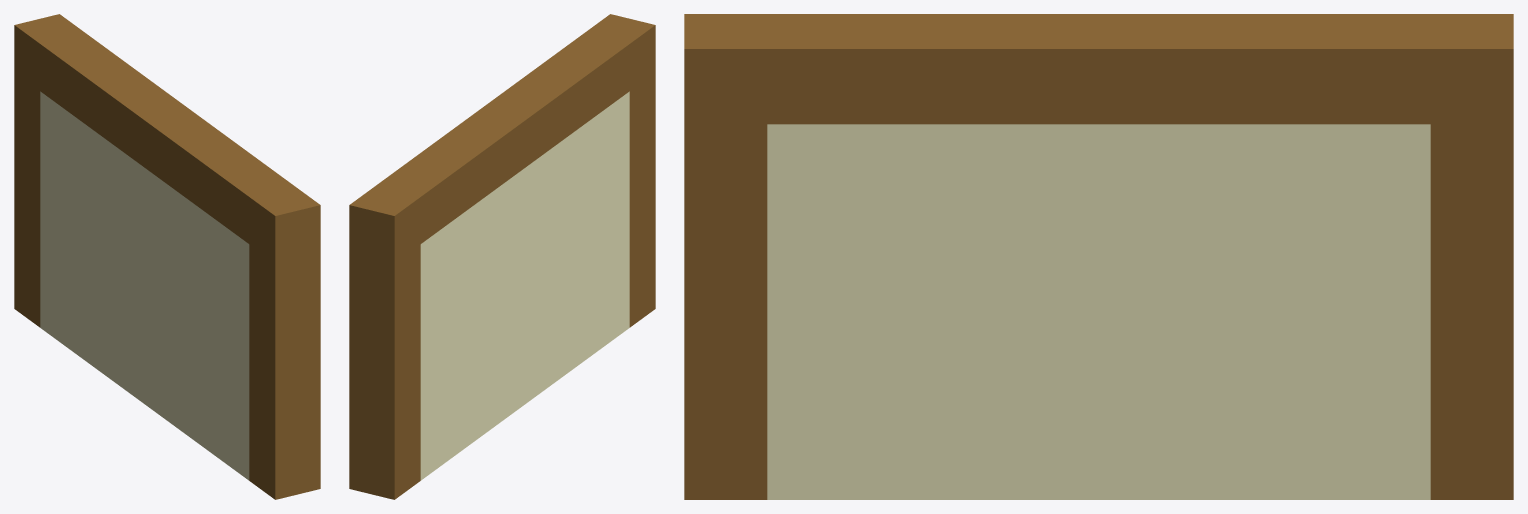
The model's file is small wall.glb.
3 views of the same model, side by side, from view 1: azimuth 30°, elevation 25°; view 2: azimuth 150°, elevation 25°; view 3: azimuth 270°, elevation 25° (orthographic). The views are drawn at different scales.
Visible parts, largest first — view 1: pl0; view 2: pl0; view 3: pl0.
Boxes of the visible parts, x1,y1,x2,y2 form: pl0: [14, 14, 320, 499]; pl0: [349, 14, 655, 499]; pl0: [684, 14, 1513, 499].
Bounding box in the file's own units: 0.1 × 0.6 × 1.
1 material, 1 textured.
